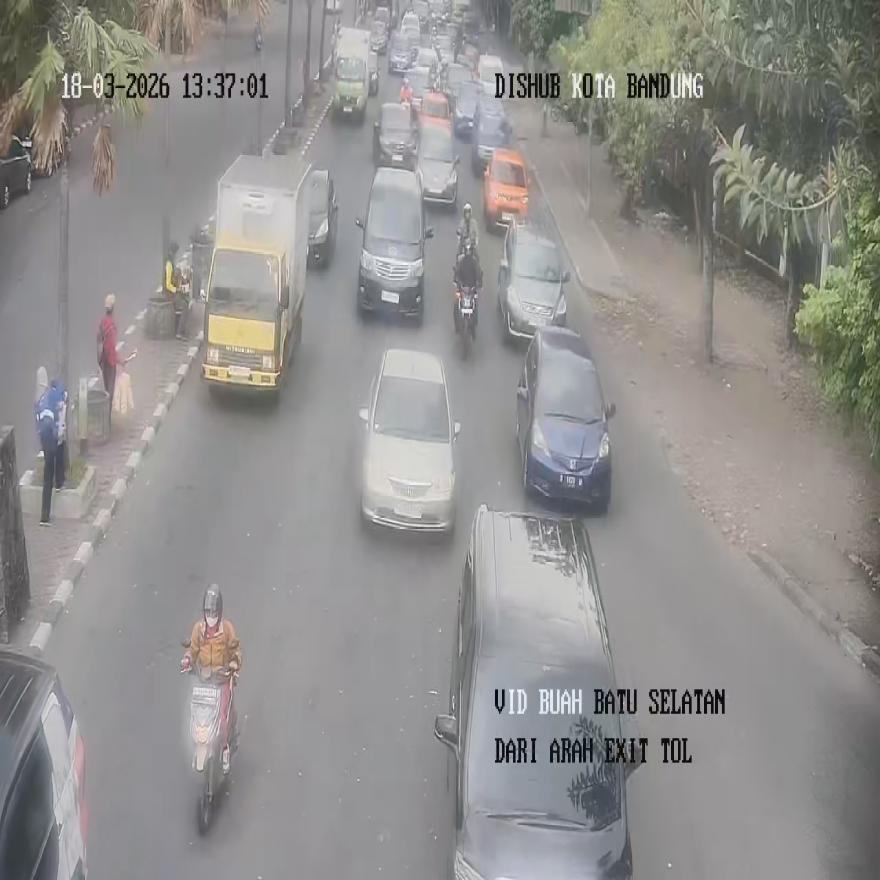Motor: (434, 505, 641, 878), (0, 647, 88, 878), (358, 348, 460, 530), (516, 325, 616, 510), (356, 166, 433, 319), (497, 216, 569, 341), (483, 149, 529, 232), (373, 100, 418, 168), (307, 168, 338, 266)
Truk: (183, 656, 237, 832), (454, 272, 479, 356), (253, 22, 262, 54)
